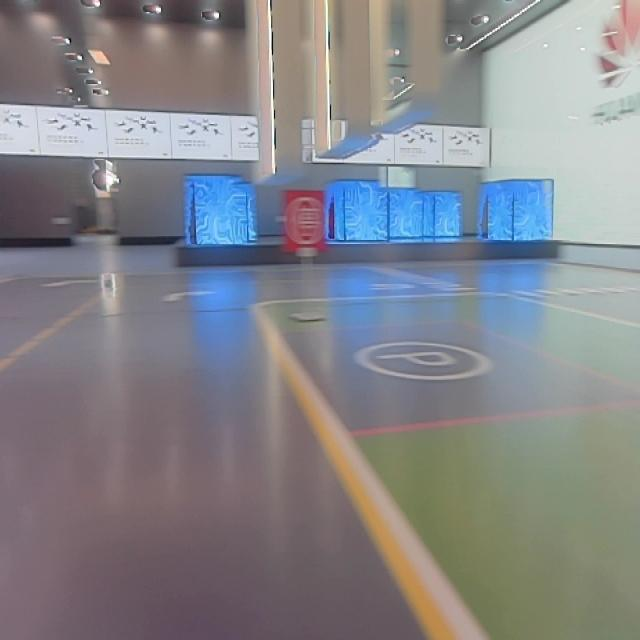left_lane: (0, 287, 103, 373)
right_lane: (250, 317, 455, 640)
